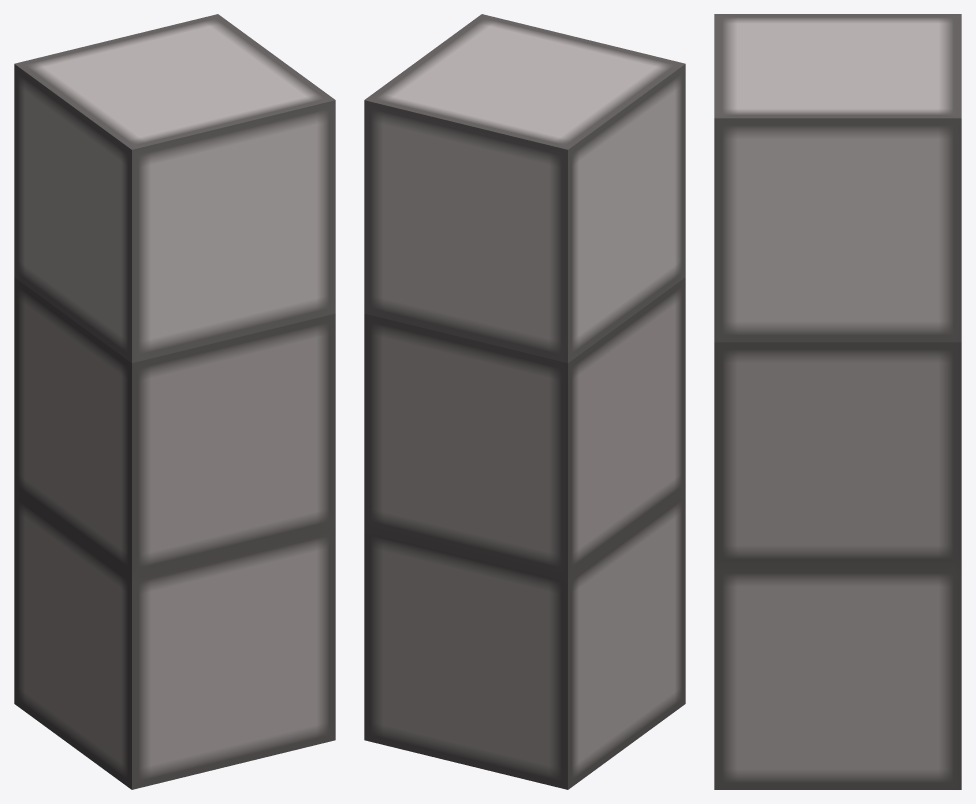
File: bottle_clear.glb
The picture shows the model from 3 angles, left to right: view 1: azimuth 30°, elevation 25°; view 2: azimuth 150°, elevation 25°; view 3: azimuth 270°, elevation 25°; orthographic projection. The views are drawn at different scales.
Parts seen in each view (by area): view 1: bottle_clear; view 2: bottle_clear; view 3: bottle_clear.
Boxes of the visible parts, x1,y1,x2,y2 form: bottle_clear: (14, 14, 335, 789); bottle_clear: (364, 14, 685, 789); bottle_clear: (714, 14, 961, 789).
Size of the model in its own units: 0.05 by 0.15 by 0.05.
Materials: 2 (2 with a texture image).
